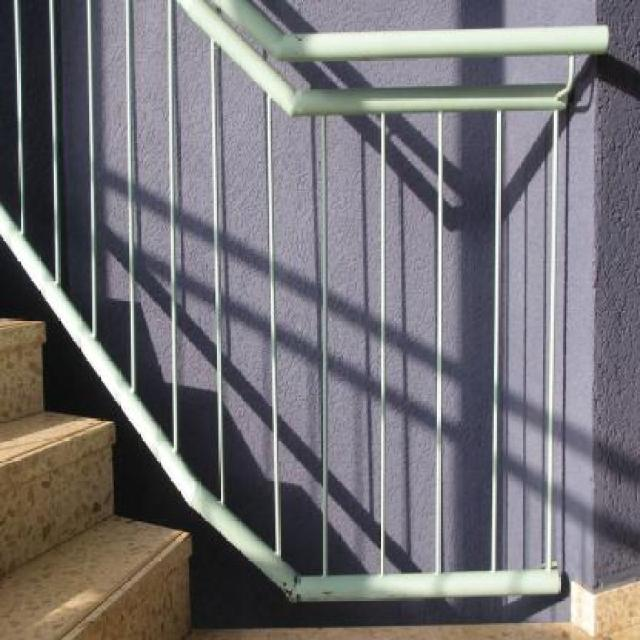stair: (0, 318, 192, 639)
